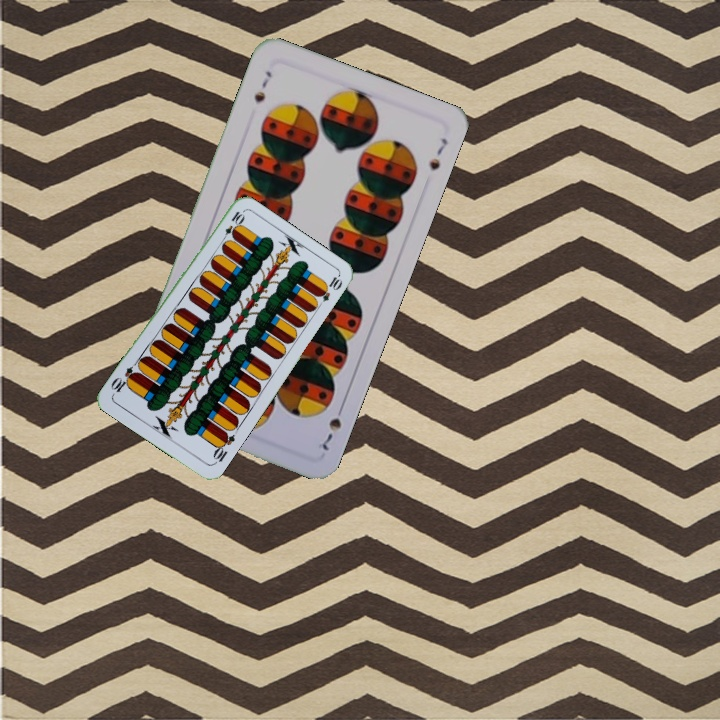E10: (209, 428, 237, 467), (218, 207, 246, 245)
S7: (318, 399, 348, 454), (250, 66, 274, 105)
